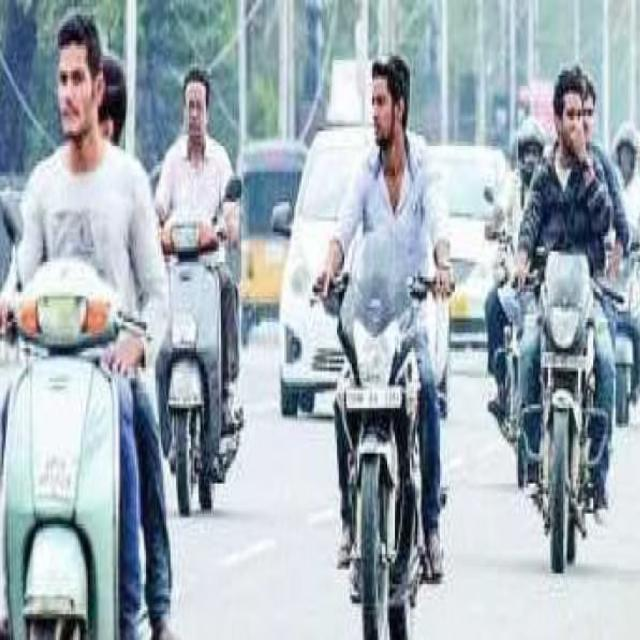Without Helmet: (55, 13, 125, 148), (367, 56, 422, 157), (554, 63, 599, 158), (182, 52, 217, 158)
